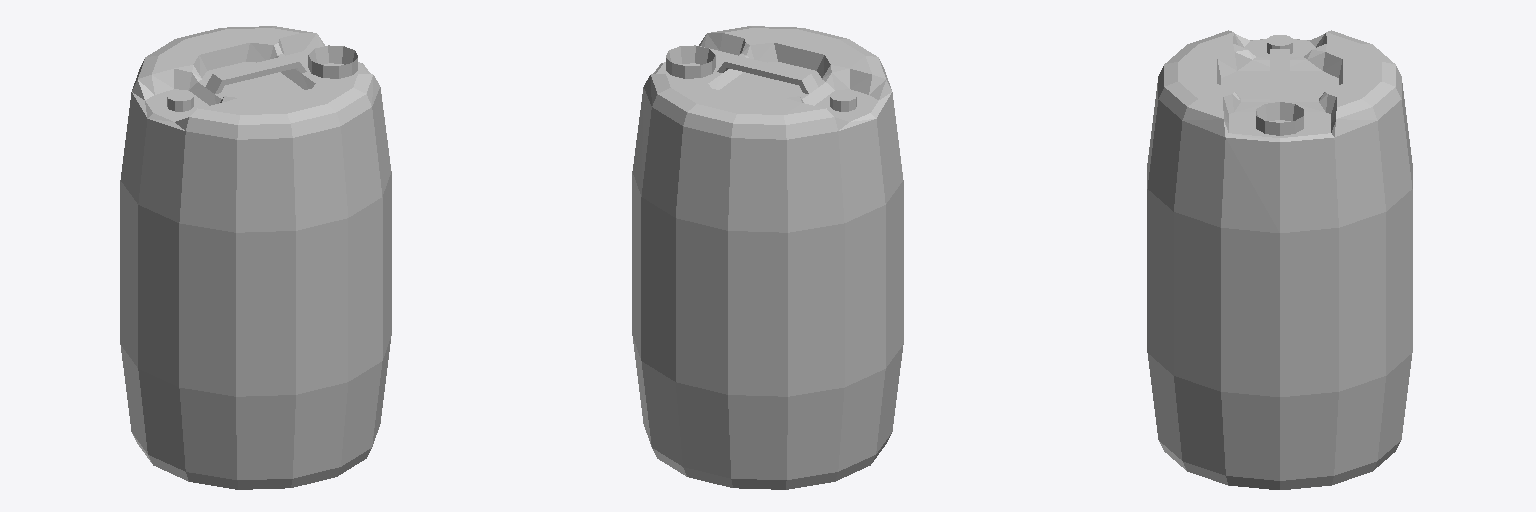
File: plastic_barrel_scaled.obj
3 views of the same model, side by side, from view 1: azimuth 30°, elevation 25°; view 2: azimuth 150°, elevation 25°; view 3: azimuth 270°, elevation 25° (orthographic).
Visible parts, largest first — view 1: mesh01; view 2: mesh01; view 3: mesh01.
Boxes of the visible parts, x1,y1,x2,y2 form: mesh01: [120, 26, 391, 489]; mesh01: [632, 26, 903, 489]; mesh01: [1147, 30, 1412, 489].
Bounding box in the file's own units: 6.11 × 9.35 × 5.96.